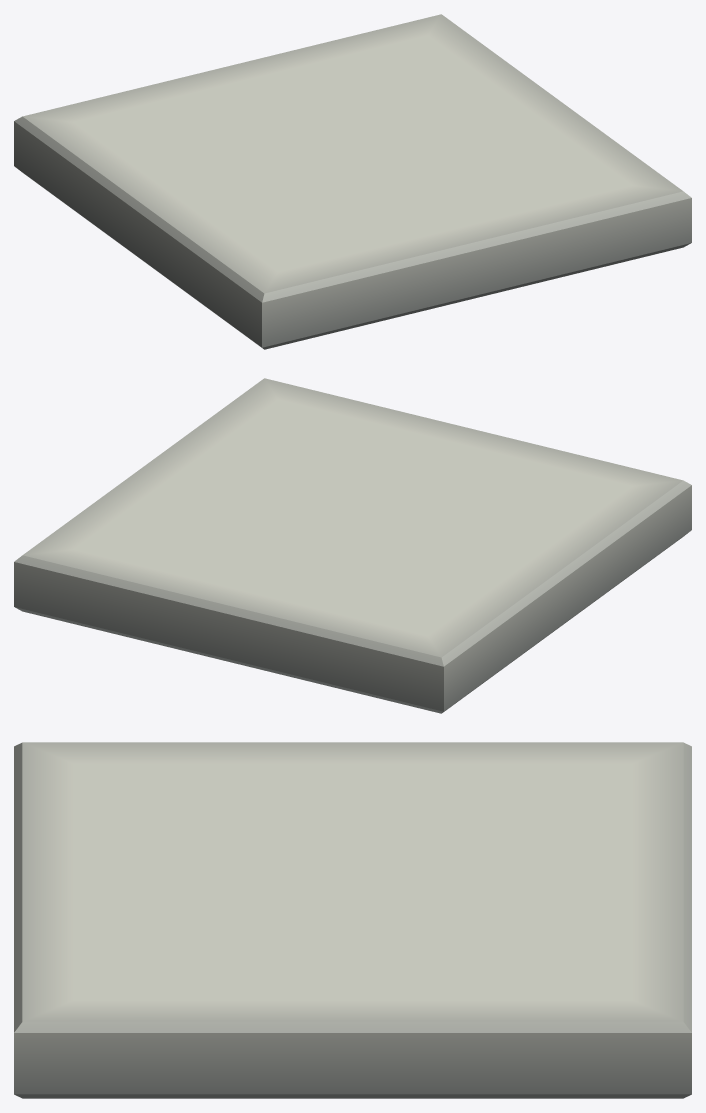
File: Tile_Concrete_Large_01.fbx
3 views of the same model, one above another, from view 1: azimuth 30°, elevation 25°; view 2: azimuth 150°, elevation 25°; view 3: azimuth 270°, elevation 25° (orthographic). The views are drawn at different scales.
Parts seen in each view (by area): view 1: Tile_Concrete_Large_01; view 2: Tile_Concrete_Large_01; view 3: Tile_Concrete_Large_01.
Boxes of the visible parts, x1=… form: Tile_Concrete_Large_01: x1=14, y1=14, x2=691, y2=349; Tile_Concrete_Large_01: x1=14, y1=378, x2=691, y2=713; Tile_Concrete_Large_01: x1=14, y1=742, x2=691, y2=1098.
Size of the model in its own units: 400 by 50 by 400.
